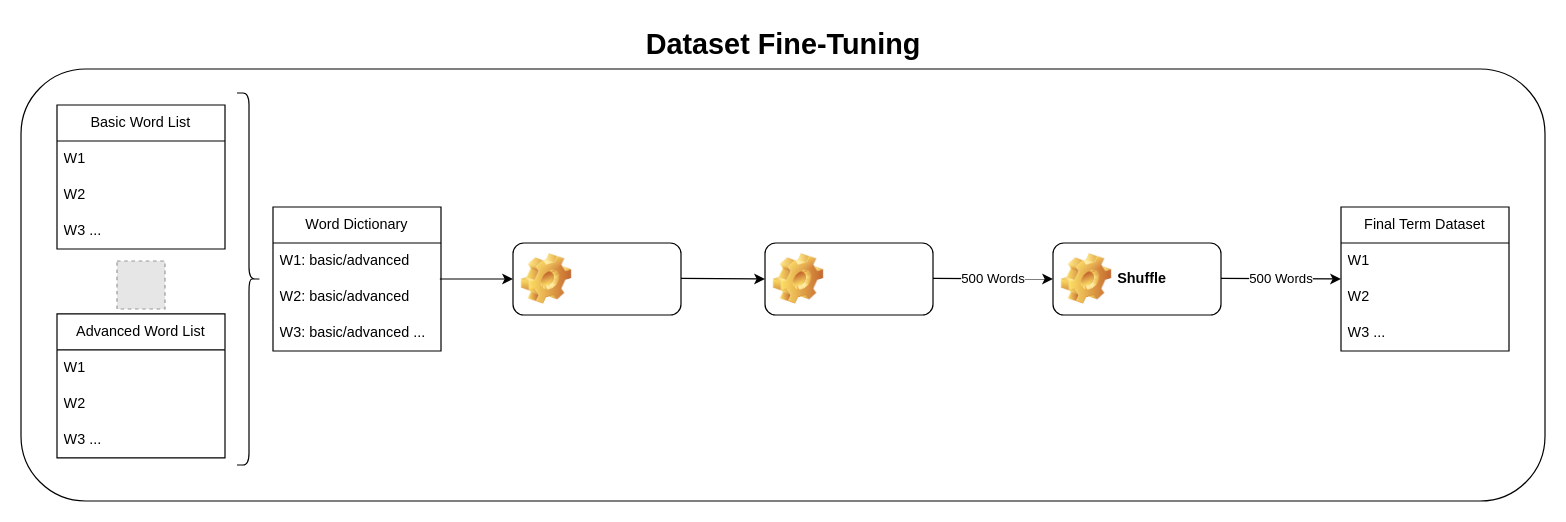
Image size: 1566x522. Some labels were removed from this diagram. Grey dashed boxes stand in for pictures. Here are the shapes that lost their labels. From the top down, the centre of each, then its label:
At point 596,278: "Word Filtering".
At point 848,278: "SemCor Frequency Selection".
